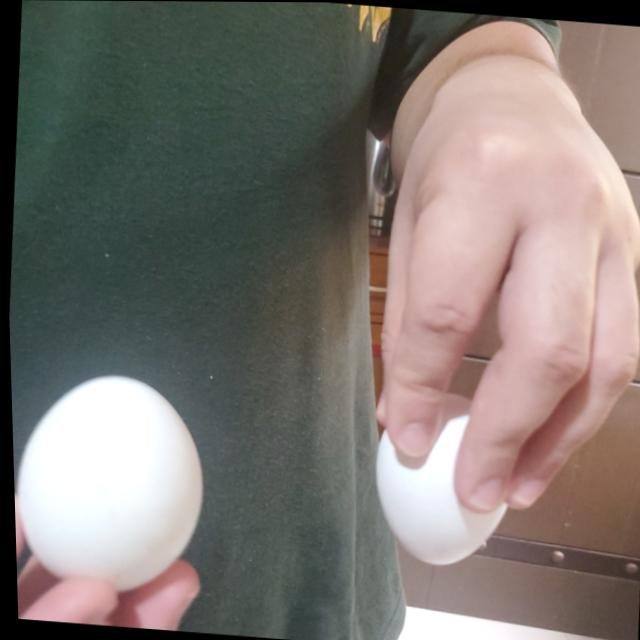egg: (9, 367, 213, 591), (365, 399, 513, 566)
